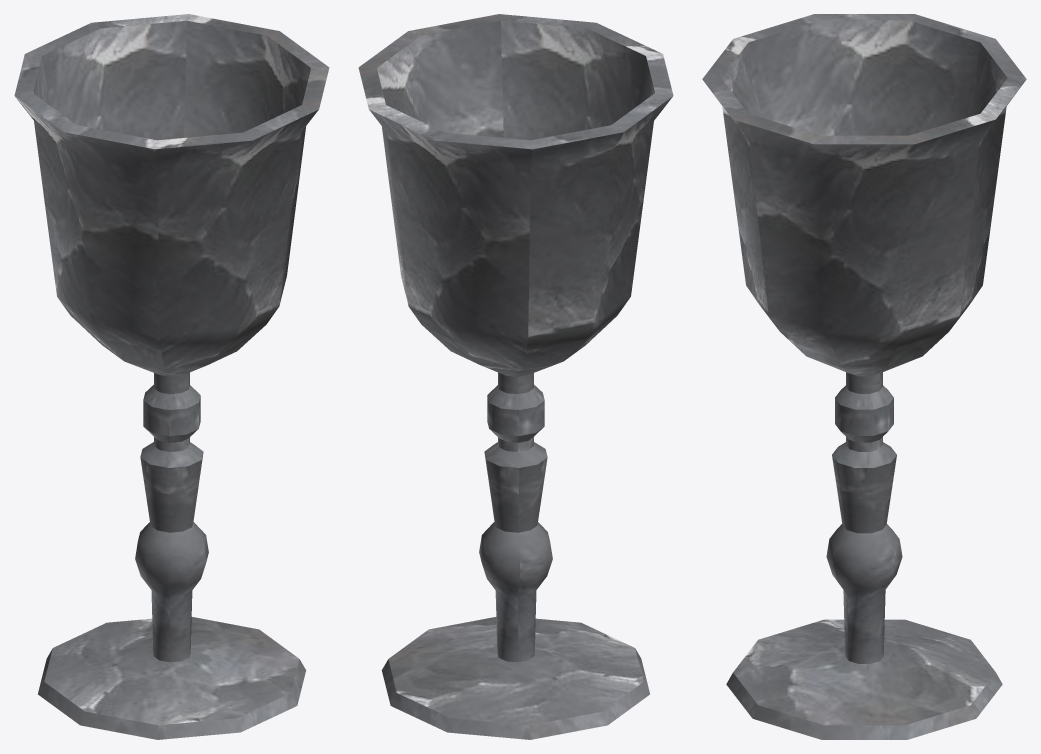
File: tr_chalice.glb
The picture shows the model from 3 angles, left to right: view 1: azimuth 30°, elevation 25°; view 2: azimuth 150°, elevation 25°; view 3: azimuth 270°, elevation 25°; orthographic projection.
Parts seen in each view (by area): view 1: model; view 2: model; view 3: model.
Part boxes in pixels (x1,y1,x2,y2): model: (14, 14, 329, 739); model: (358, 14, 673, 739); model: (702, 14, 1026, 739).
Bounding box in the file's own units: 0.1184 × 0.2567 × 0.1245.
1 material, 1 textured.
